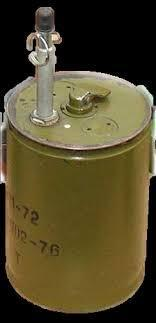OZM 72: (5, 6, 154, 316)
